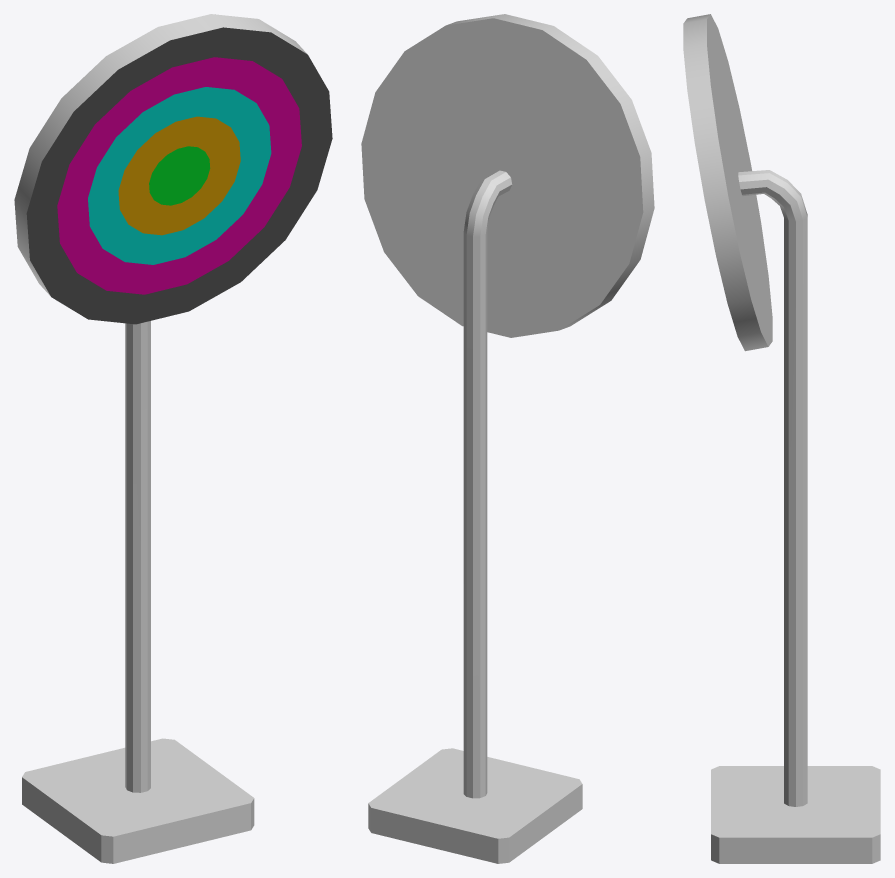
The model's file is highTarget.fbx.
3 renders of one model, left to right at view 1: azimuth 30°, elevation 25°; view 2: azimuth 150°, elevation 25°; view 3: azimuth 270°, elevation 25°, orthographic. The views are drawn at different scales.
Visible parts, largest first — view 1: highTarget; view 2: highTarget; view 3: highTarget.
Boxes of the visible parts, left/top/right/bottom form: highTarget: left=14, top=14, right=332, bottom=863; highTarget: left=361, top=14, right=654, bottom=863; highTarget: left=683, top=14, right=880, bottom=863.
Size of the model in its own units: 2 by 5.18 by 1.16.
